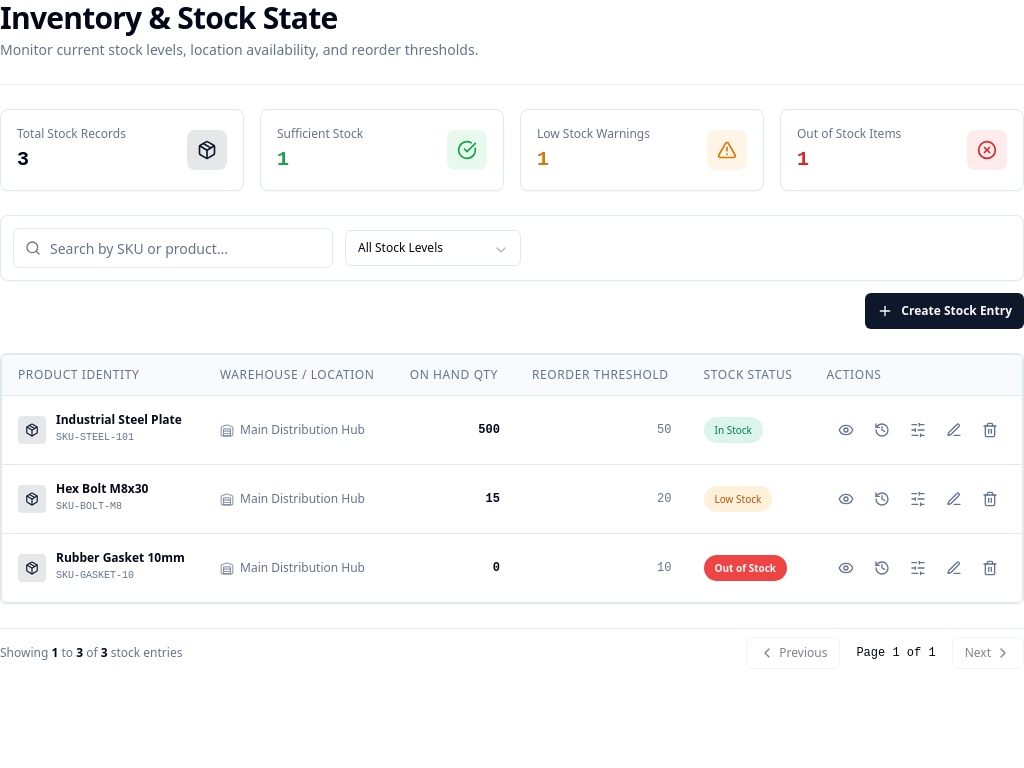
Test case: Inventory Management Suite › opens Adjust Stock modal when Stock Adjustment action is clicked
This screenshot has width=1024, height=768.
Click the button titled "Adjust Stock Quantity" in the row of "Industrial Steel Plate": (918, 430) [902,414,934,446]
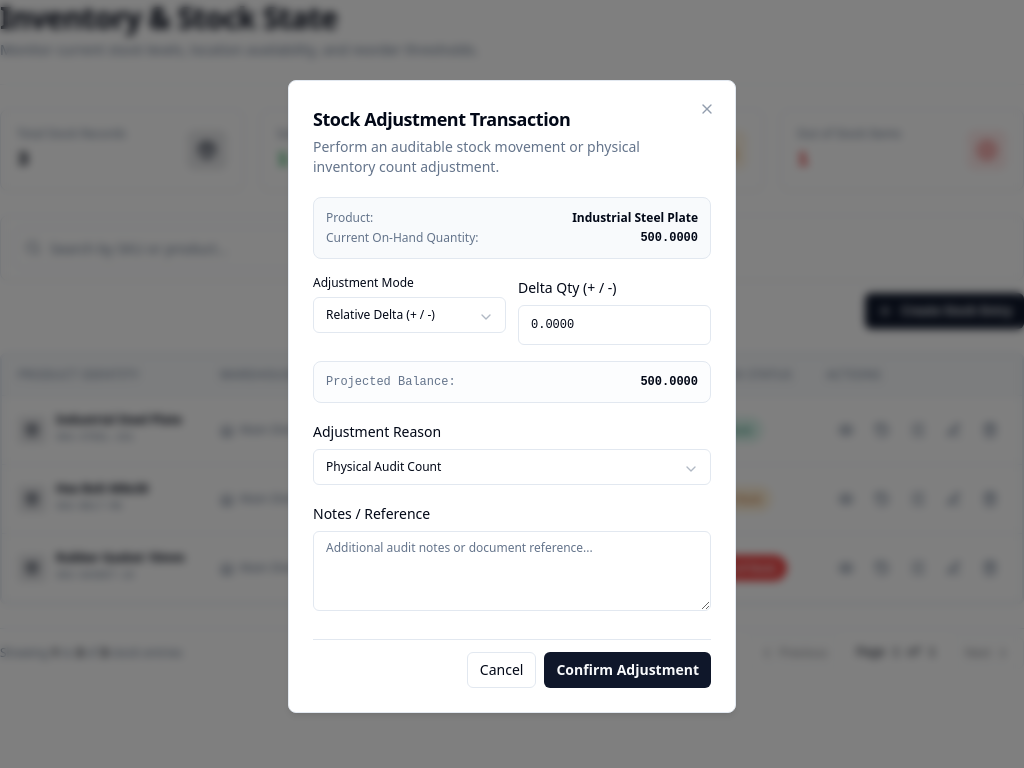
Now the heading "Stock Adjustment Transaction" is shown, box [313,106,570,130]
